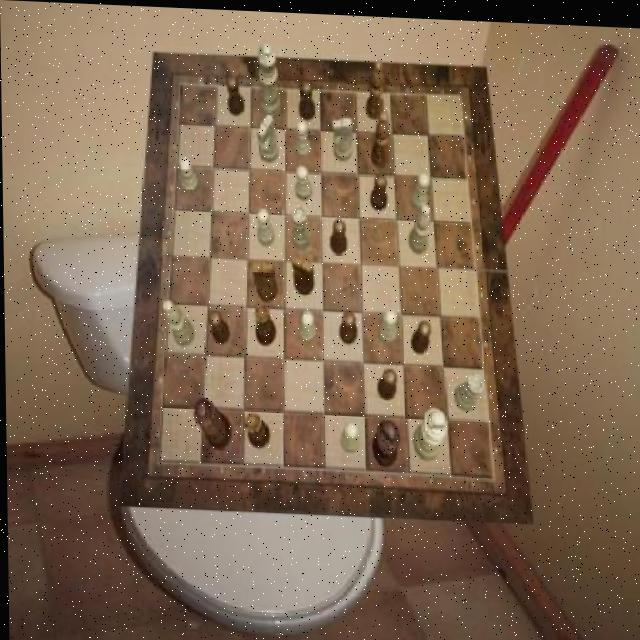bishop: (369, 107, 389, 165), (365, 57, 384, 118)
black-bishop: (371, 416, 399, 463)
black-king: (251, 258, 276, 300), (291, 253, 314, 293)
black-knight: (207, 309, 228, 344), (226, 74, 244, 114), (410, 316, 430, 351), (377, 365, 397, 398), (328, 216, 346, 252), (368, 170, 385, 208), (297, 78, 313, 118), (338, 309, 356, 343)
black-pawn: (192, 396, 230, 448)
black-queen: (252, 302, 275, 345), (243, 410, 268, 445)
black-rook: (162, 298, 193, 344), (407, 199, 430, 250)
white-bishop: (411, 403, 447, 458)
white-king: (256, 112, 277, 160), (332, 115, 353, 159)
white-knight: (408, 169, 428, 208), (179, 155, 197, 194), (294, 118, 311, 158), (378, 305, 397, 340), (339, 418, 359, 451), (294, 162, 312, 198), (256, 206, 273, 244), (297, 307, 315, 342)
white-pawn: (257, 41, 281, 118)
white-queen: (453, 368, 483, 406), (290, 204, 310, 249)
